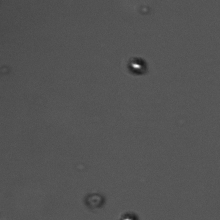Dead Cell: (81, 191, 107, 210)
Living Cell: (125, 54, 151, 78)
